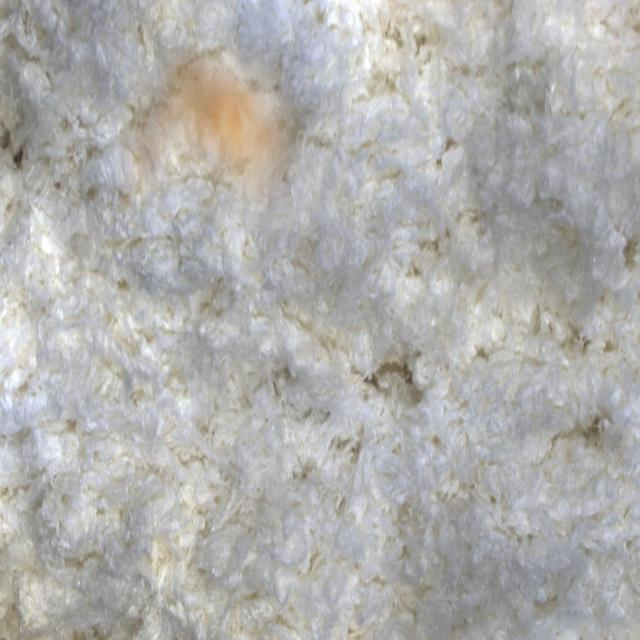dust: (119, 44, 313, 231)
